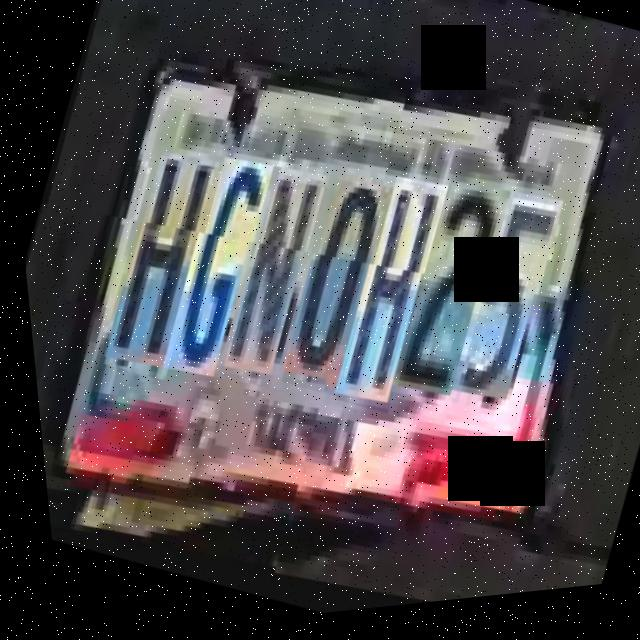2: (368, 188, 520, 422)
5: (430, 202, 571, 426)
G: (140, 163, 283, 397)
H: (310, 182, 460, 425), (81, 154, 233, 388)
N: (200, 175, 338, 398)
O: (258, 181, 403, 408)
